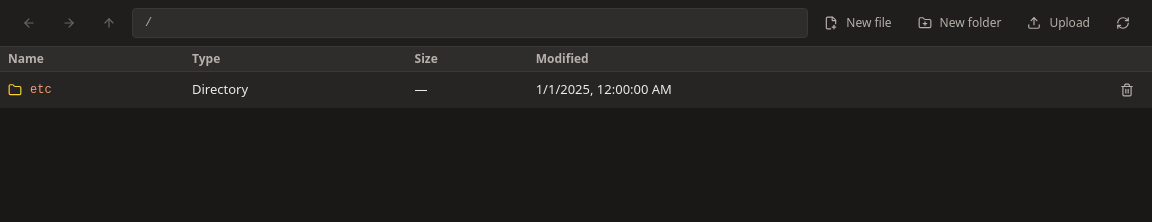
FilesTab › moves up to the parent directory
Click the button with test id "file-row-etc": (41, 90) [30, 82, 52, 98]
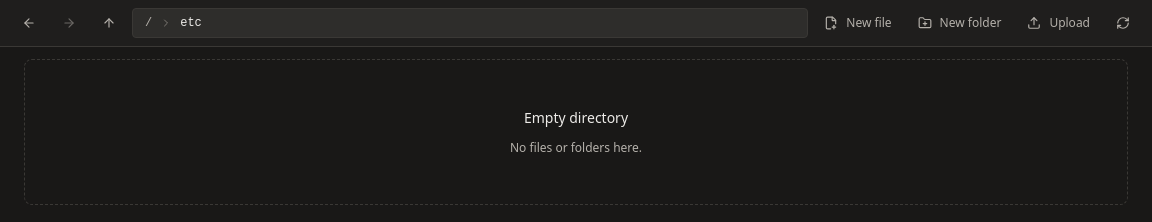
Expected: the button with test id "crumb-0" reads "etc", [176, 15, 206, 31]
Click the button with test id "files-up": (109, 23) [92, 9, 126, 37]
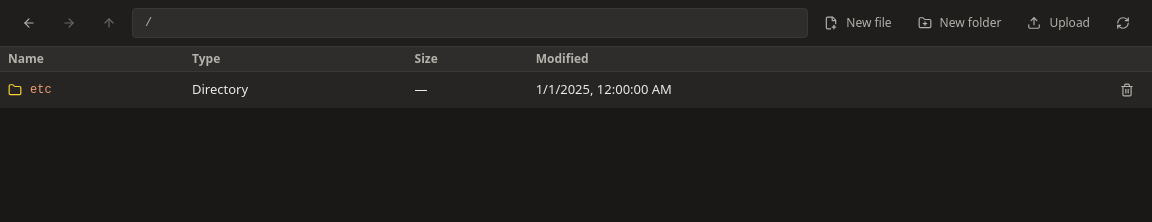
Result: the button with test id "crumb-0" is gone
